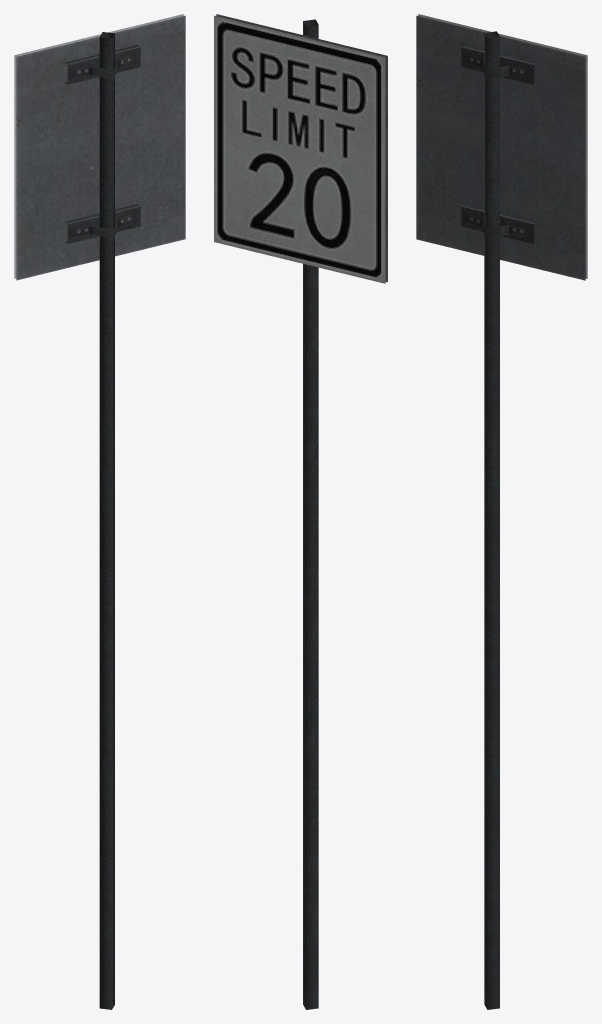
File: Speed_Limit_-_20_mph.glb
3 renders of one model, left to right at view 1: azimuth 30°, elevation 25°; view 2: azimuth 150°, elevation 25°; view 3: azimuth 330°, elevation 25°, orthographic.
Parts seen in each view (by area): view 1: Speed_Limit_20mph__LOD1; view 2: Speed_Limit_20mph__LOD1; view 3: Speed_Limit_20mph__LOD1.
Boxes of the visible parts, x1,y1,x2,y2 form: Speed_Limit_20mph__LOD1: [14, 14, 185, 1009]; Speed_Limit_20mph__LOD1: [214, 14, 387, 1009]; Speed_Limit_20mph__LOD1: [416, 14, 587, 1009].
Bounding box in the file's own units: 0.546 × 2.99 × 0.0909.
1 material, 1 textured.
